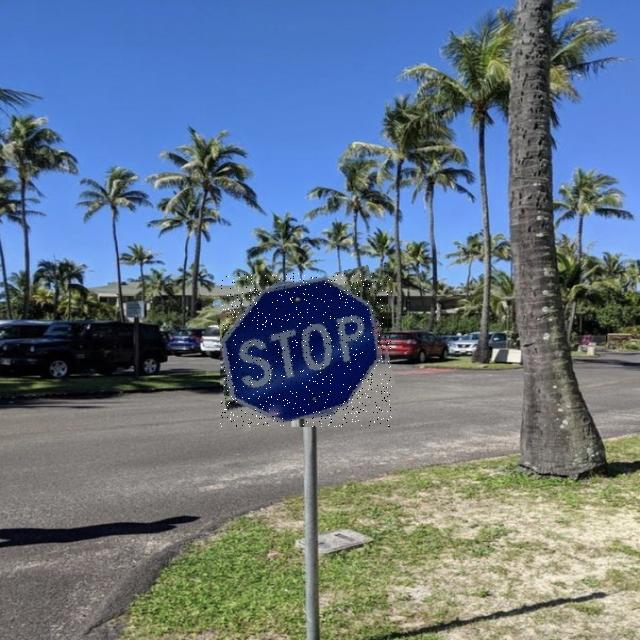stop: (220, 273, 392, 427)
